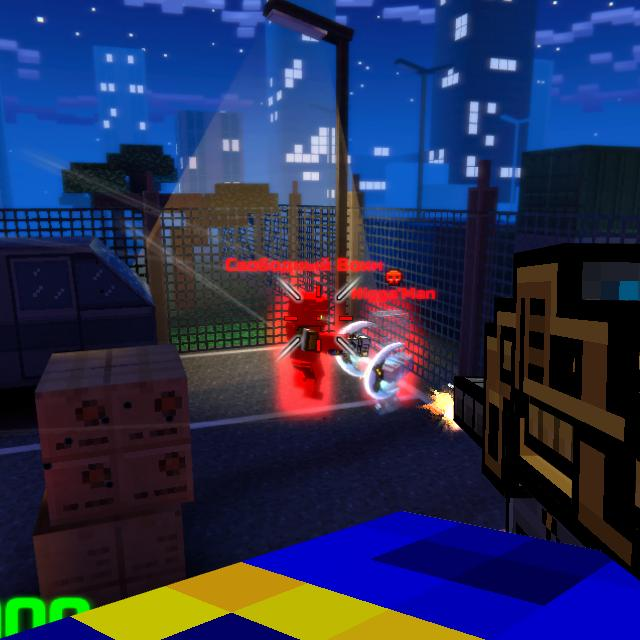Enemy: (352, 306, 421, 413), (277, 297, 339, 400)
